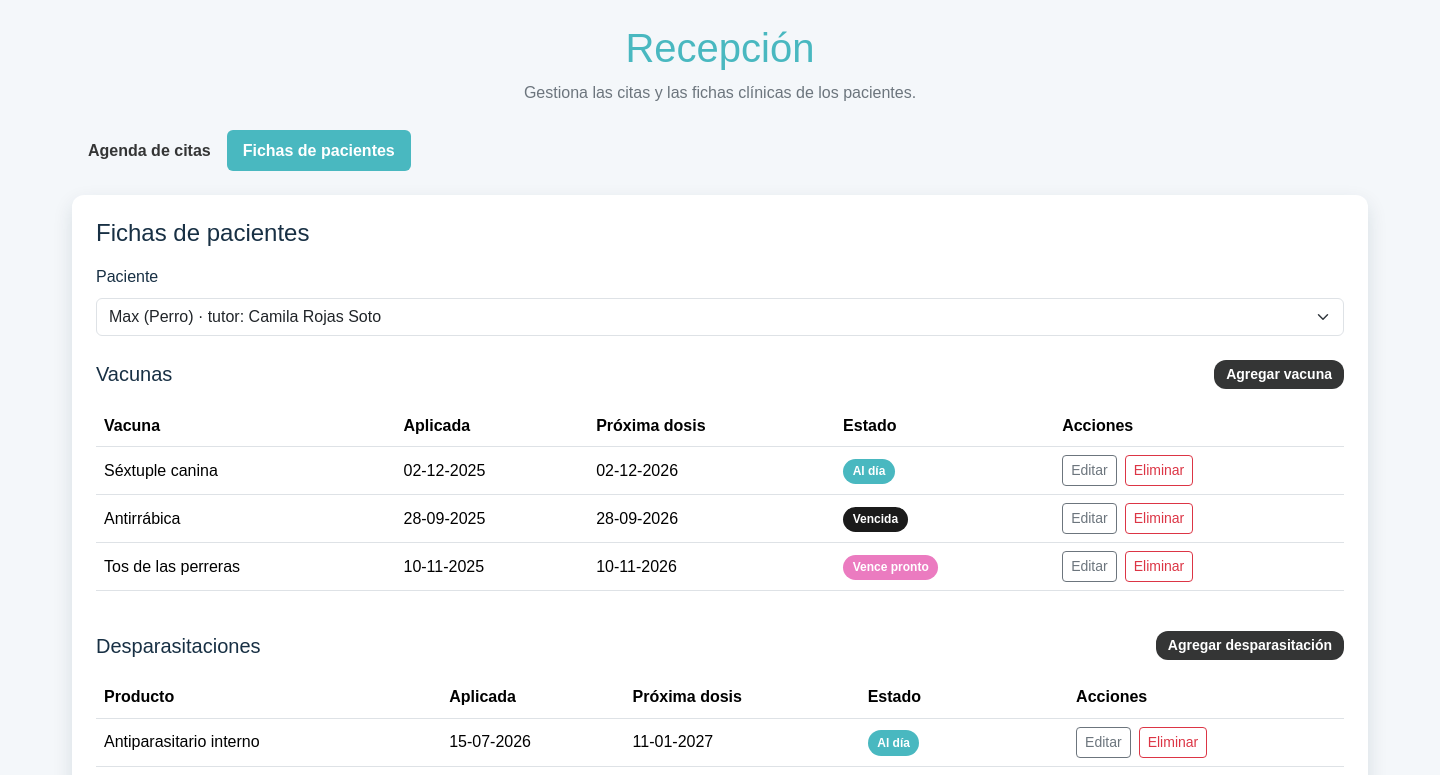
Test case: FichasPacientes › edita un registro existente
The image size is (1440, 775).
Click the button "Editar" in the row of "Antirrábica" at (1089, 519), box [1062,503,1117,534]
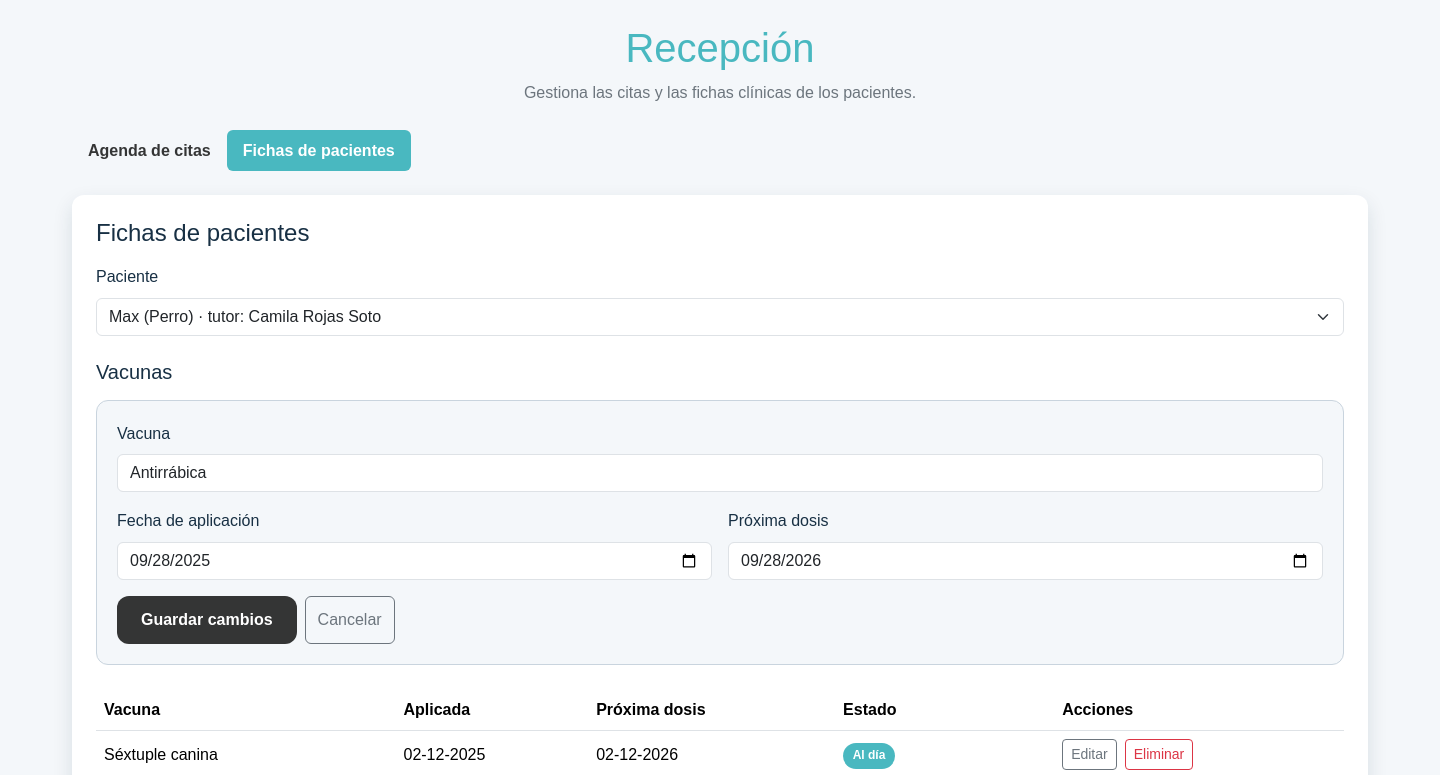
Replace the text in the field labelled "Vacuna" with "Antirrábica canina" at (720, 473), box [117,454,1323,492]
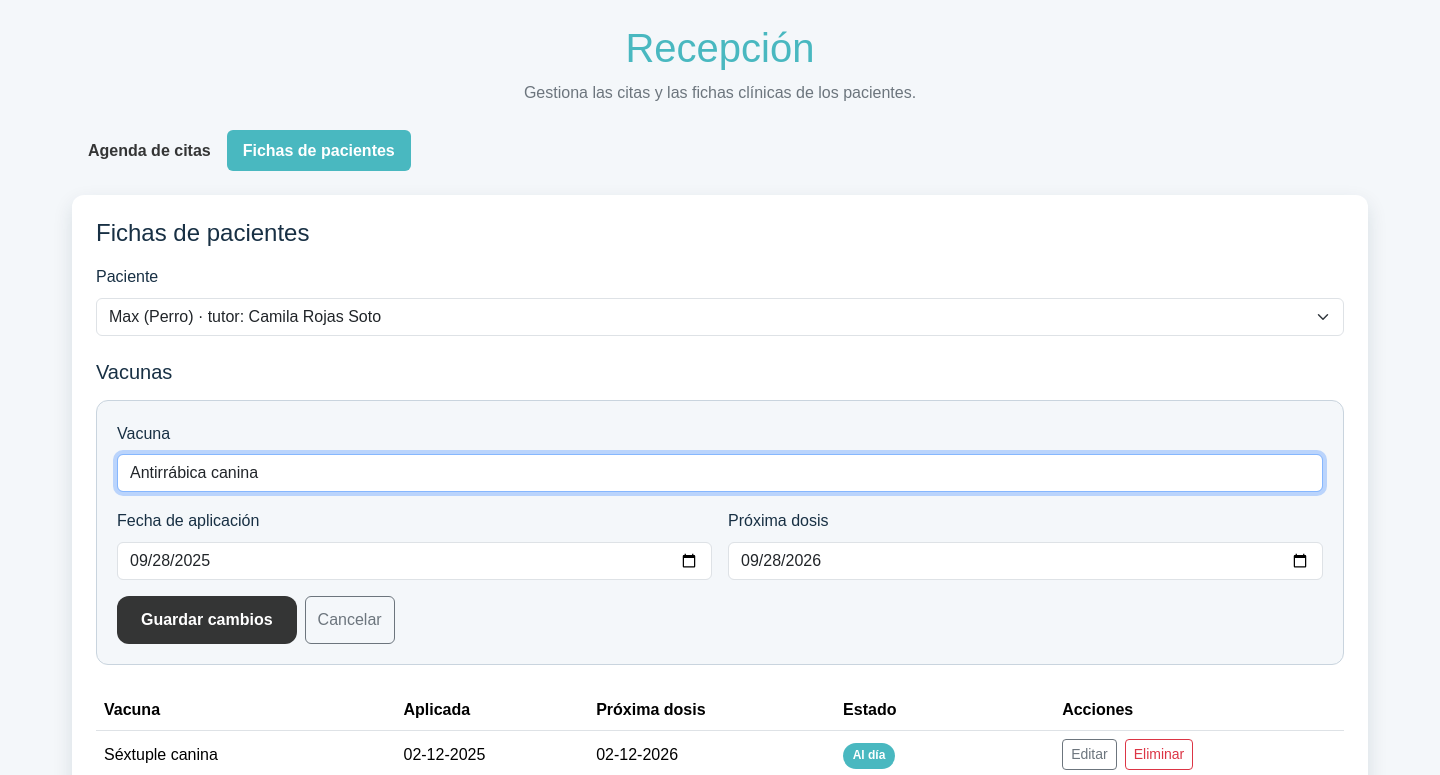
Click the button "Guardar cambios" at (207, 620), box [117,596,297,644]
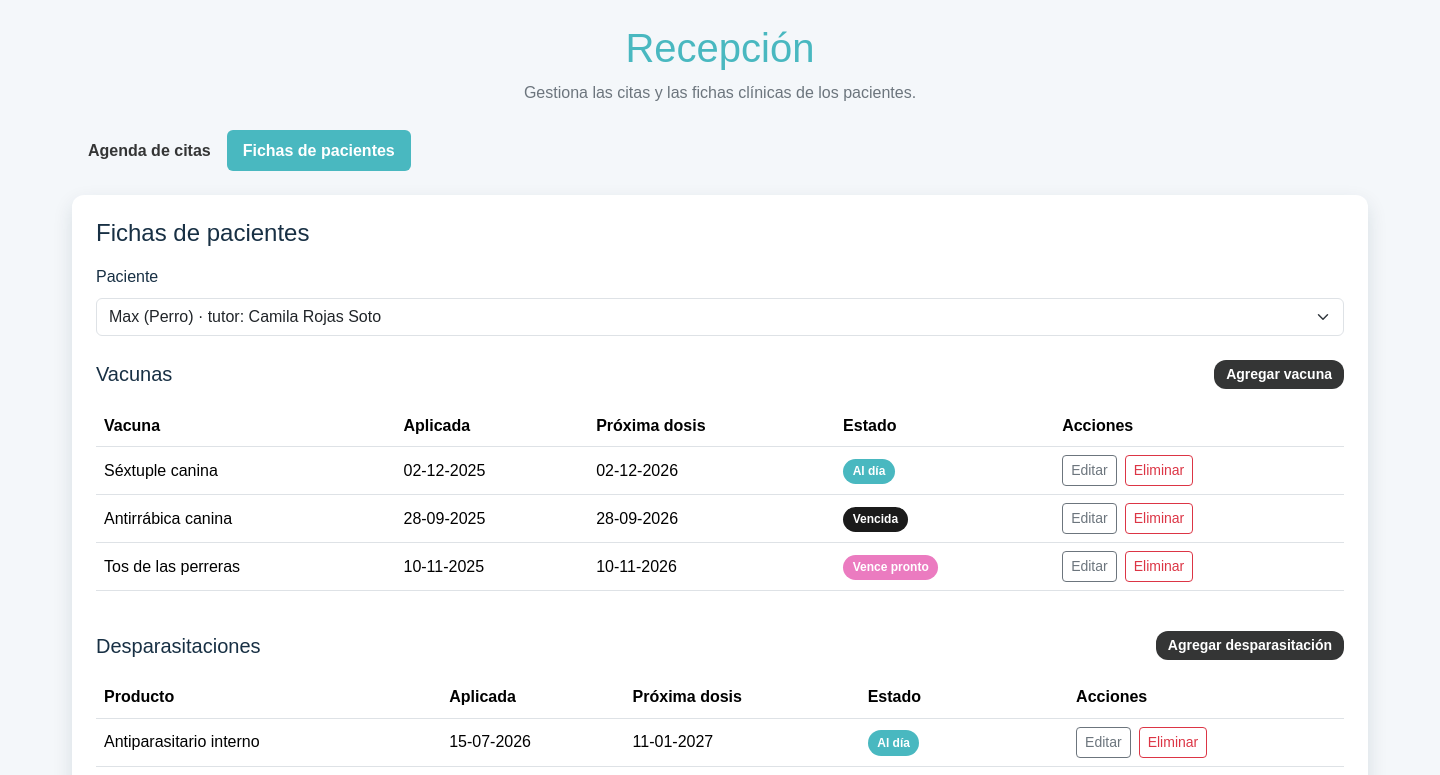
Now the text "Antirrábica canina" is shown, box [96,495,396,543]
